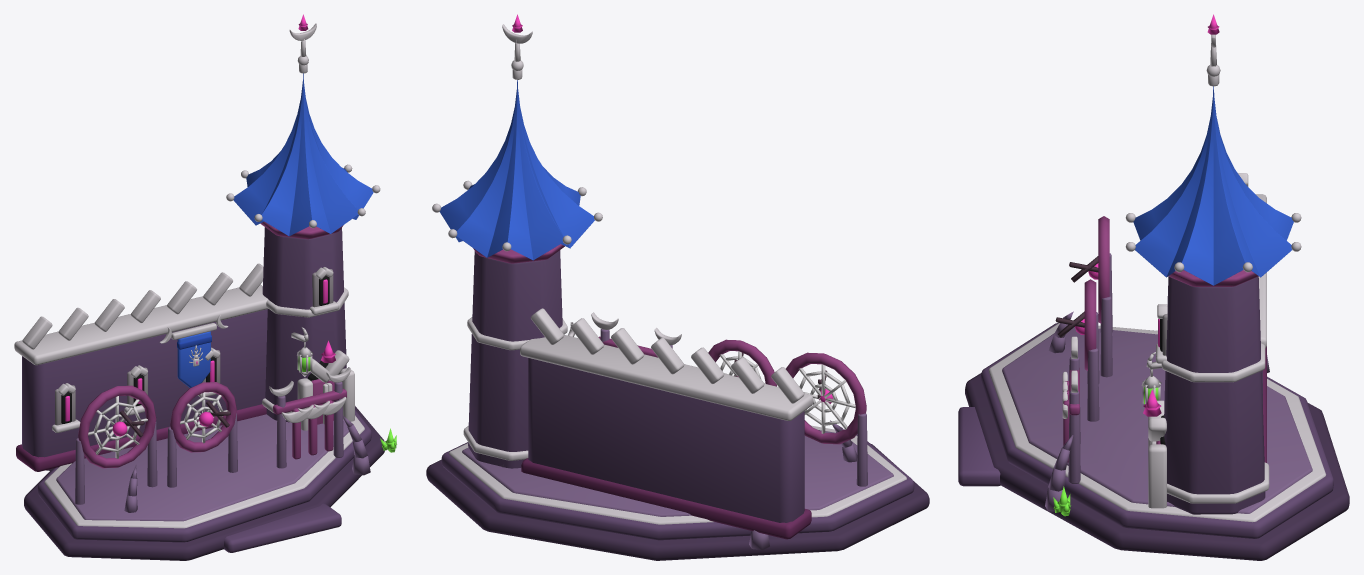
File: Range.glb
The picture shows the model from 3 angles, left to right: view 1: azimuth 30°, elevation 25°; view 2: azimuth 150°, elevation 25°; view 3: azimuth 270°, elevation 25°; orthographic projection. The views are drawn at different scales.
Visible parts, largest first — view 1: Range; view 2: Range; view 3: Range.
Part boxes in pixels (bbox=[...]): Range: bbox=[14, 14, 396, 560]; Range: bbox=[426, 14, 929, 560]; Range: bbox=[958, 14, 1349, 560].
Size of the model in its own units: 3.87 by 4.23 by 2.93.
